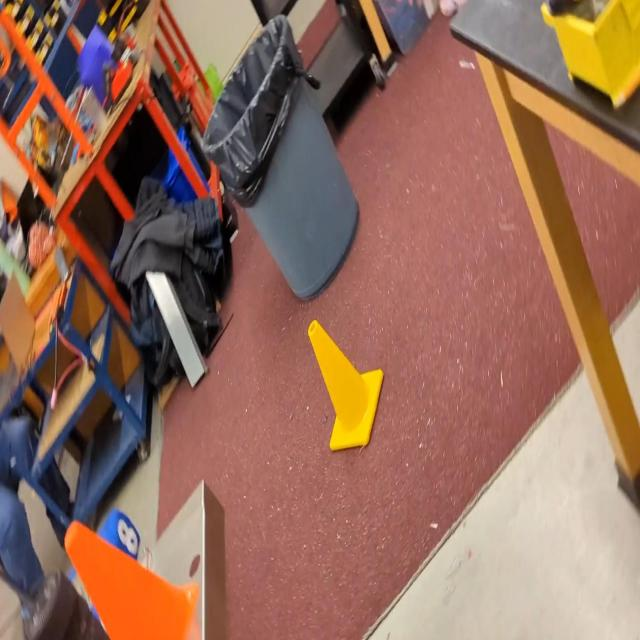frc_cone: (306, 320, 386, 452)
